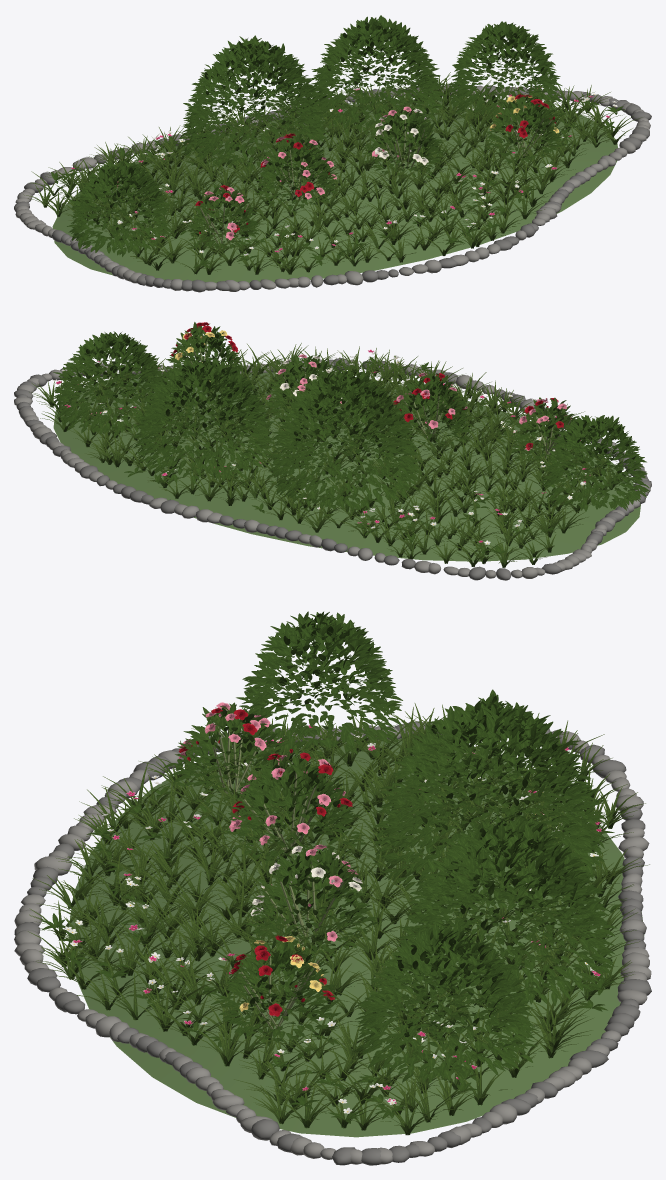
The model's file is yh_bigbed.glb.
3 renders of one model, top to bottom at view 1: azimuth 30°, elevation 25°; view 2: azimuth 150°, elevation 25°; view 3: azimuth 270°, elevation 25°, orthographic. The views are drawn at different scales.
Visible parts, largest first — view 1: yh_bigbed_花叶, yh_bigbed_苔, yh_bigbed_卵石, yh_bigbed_卵石深, yh_bigbed_茎; view 2: yh_bigbed_花叶, yh_bigbed_苔, yh_bigbed_卵石, yh_bigbed_卵石深, yh_bigbed_茎; view 3: yh_bigbed_花叶, yh_bigbed_苔, yh_bigbed_卵石, yh_bigbed_卵石深, yh_bigbed_茎.
Part boxes in pixels (x1,y1,x2,y2): yh_bigbed_花叶: (23,15,642,274); yh_bigbed_苔: (52,98,617,283); yh_bigbed_卵石: (15,85,650,291); yh_bigbed_卵石深: (14,85,651,292); yh_bigbed_茎: (200,102,552,243); yh_bigbed_花叶: (29,322,649,567); yh_bigbed_苔: (53,372,640,561); yh_bigbed_卵石: (14,359,650,578); yh_bigbed_卵石深: (14,357,651,580); yh_bigbed_茎: (184,336,570,458); yh_bigbed_花叶: (28,611,649,1135); yh_bigbed_苔: (68,738,644,1137); yh_bigbed_卵石: (14,720,651,1164); yh_bigbed_卵石深: (14,721,651,1165); yh_bigbed_茎: (212,725,344,1031).
Bounding box in the file's own units: 4.66 × 1 × 2.82.
5 materials, 1 textured.
